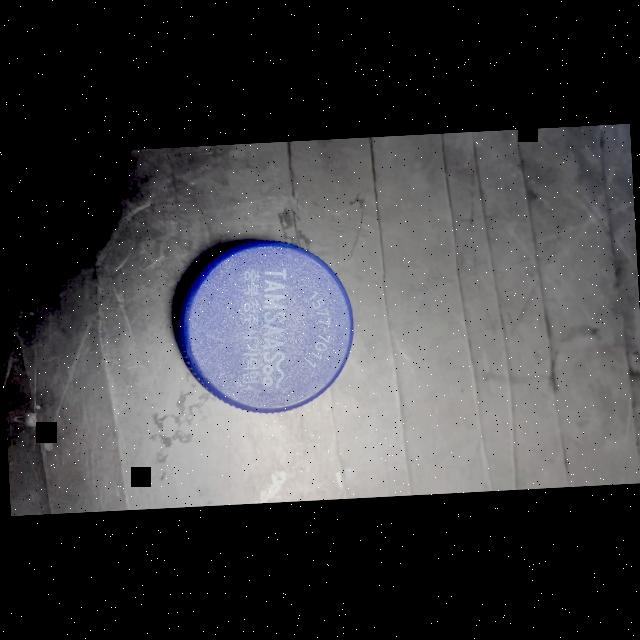plastic_bottle_cap: (164, 233, 360, 423)
